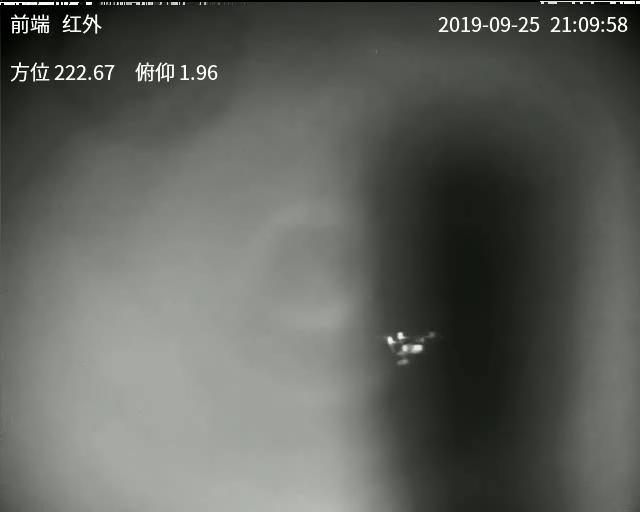uav: (377, 325, 432, 365)
